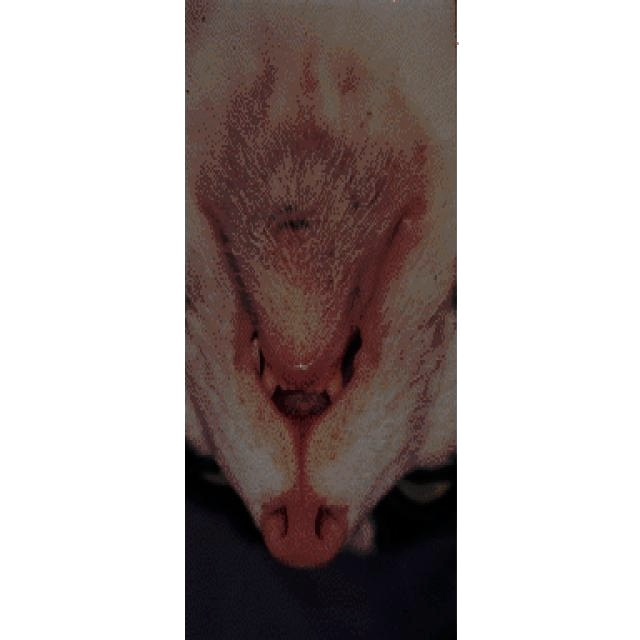acne: (279, 195, 313, 246)
